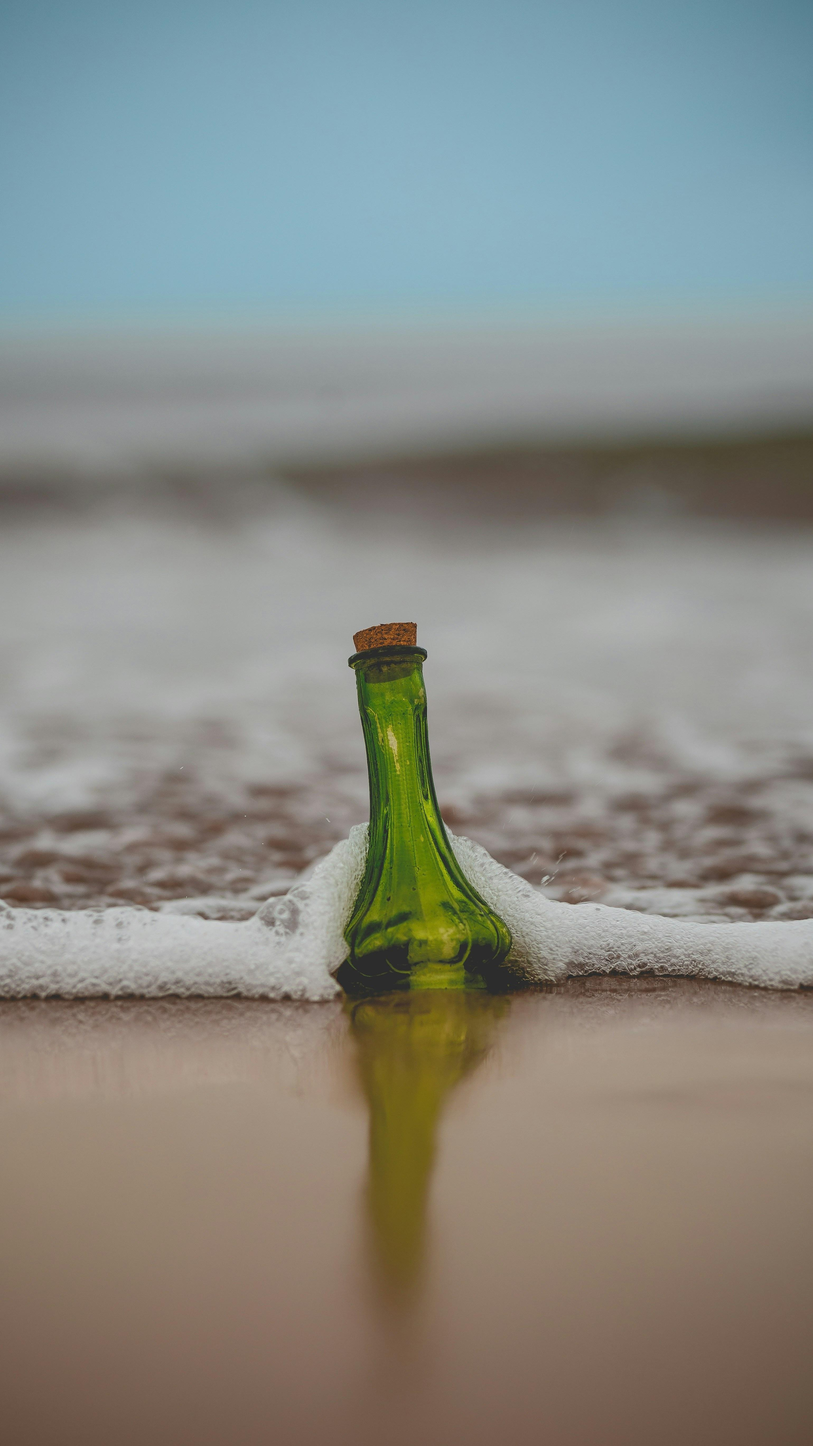Bottle-Detection: (288, 552, 560, 1046)
